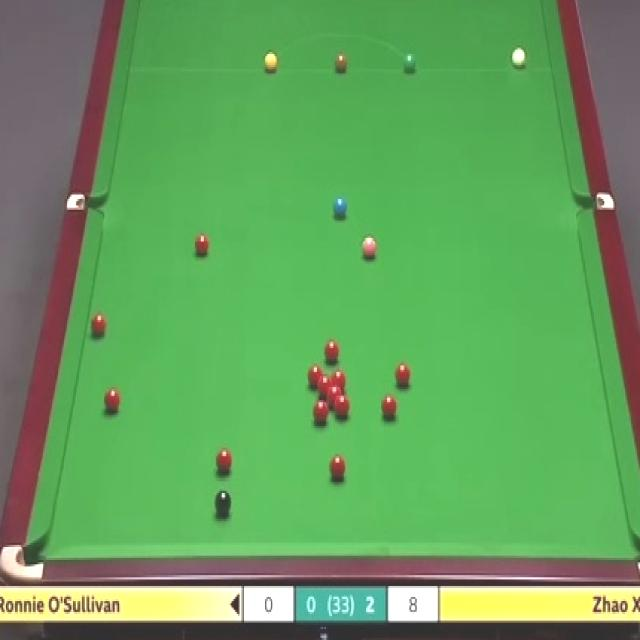black-ball: (215, 491, 232, 520)
blue-ball: (332, 194, 348, 220)
brown-ball: (334, 50, 348, 73)
green-ball: (402, 54, 417, 75)
pink-ball: (362, 235, 377, 259)
red-ball: (380, 393, 399, 423), (393, 363, 412, 392), (329, 452, 346, 482), (91, 312, 108, 340), (104, 385, 120, 414), (216, 448, 233, 473), (313, 398, 328, 426), (324, 339, 339, 366), (307, 364, 322, 388), (335, 394, 350, 418), (195, 232, 209, 255), (332, 370, 346, 391), (318, 375, 332, 395), (328, 386, 341, 406)
white-ball: (510, 44, 527, 72)
yellow-ball: (264, 52, 278, 74)
